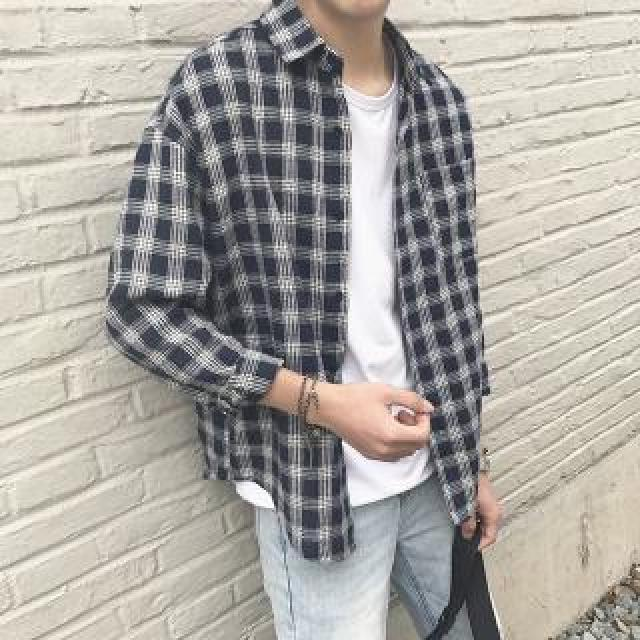plaid: (97, 21, 490, 525)
